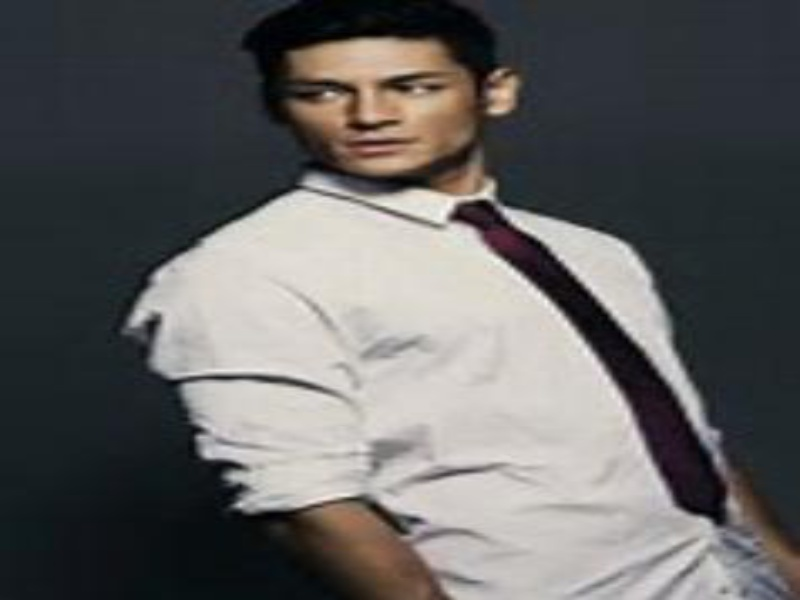TsisyArotava: (246, 20, 538, 196)
